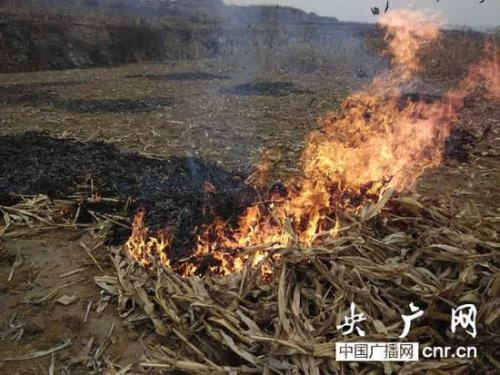fire: (208, 3, 481, 260), (124, 208, 173, 268)
